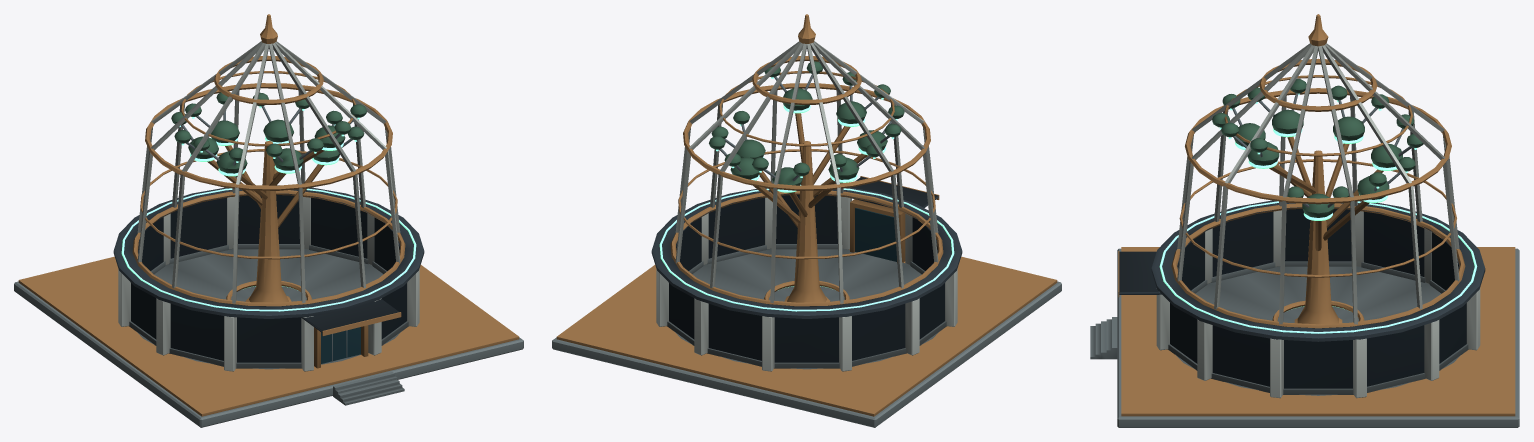
File: knowledge-atrium.lod1.glb
The picture shows the model from 3 angles, left to right: view 1: azimuth 30°, elevation 25°; view 2: azimuth 150°, elevation 25°; view 3: azimuth 270°, elevation 25°; orthographic projection. The views are drawn at different scales.
Parts seen in each view (by area): view 1: structure, lobby; view 2: structure, lobby; view 3: structure, lobby.
Part boxes in pixels (x1,y1,x2,y2): structure: (14,14,523,427); lobby: (131,195,406,363); structure: (552,14,1061,427); lobby: (669,195,944,362); structure: (1090,14,1519,427); lobby: (1170,209,1466,388).
Bounding box in the file's own units: 24 × 21.7 × 25.6.
